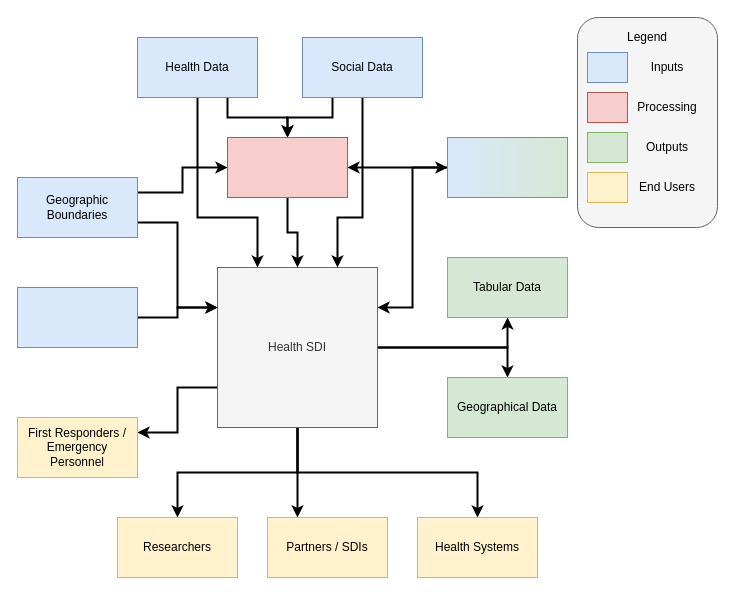
This 735x595 diagram has some shape labels left out. The shapes that lost their labels are listed below. From the top down, each one's centre as x and y in pixels, then its label:
At [287,167]: "Geocoding / Data Processing".
At [507,167]: "External SDIs".
At [77,317]: "Symbology Guidelines".
